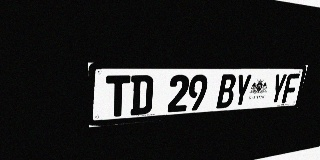2: (167, 75, 190, 112)
9: (187, 74, 209, 111)
B: (216, 74, 237, 109)
D: (130, 75, 154, 115)
F: (281, 74, 300, 103)
T: (106, 75, 130, 117)
Y: (232, 74, 252, 107), (269, 74, 288, 104)
